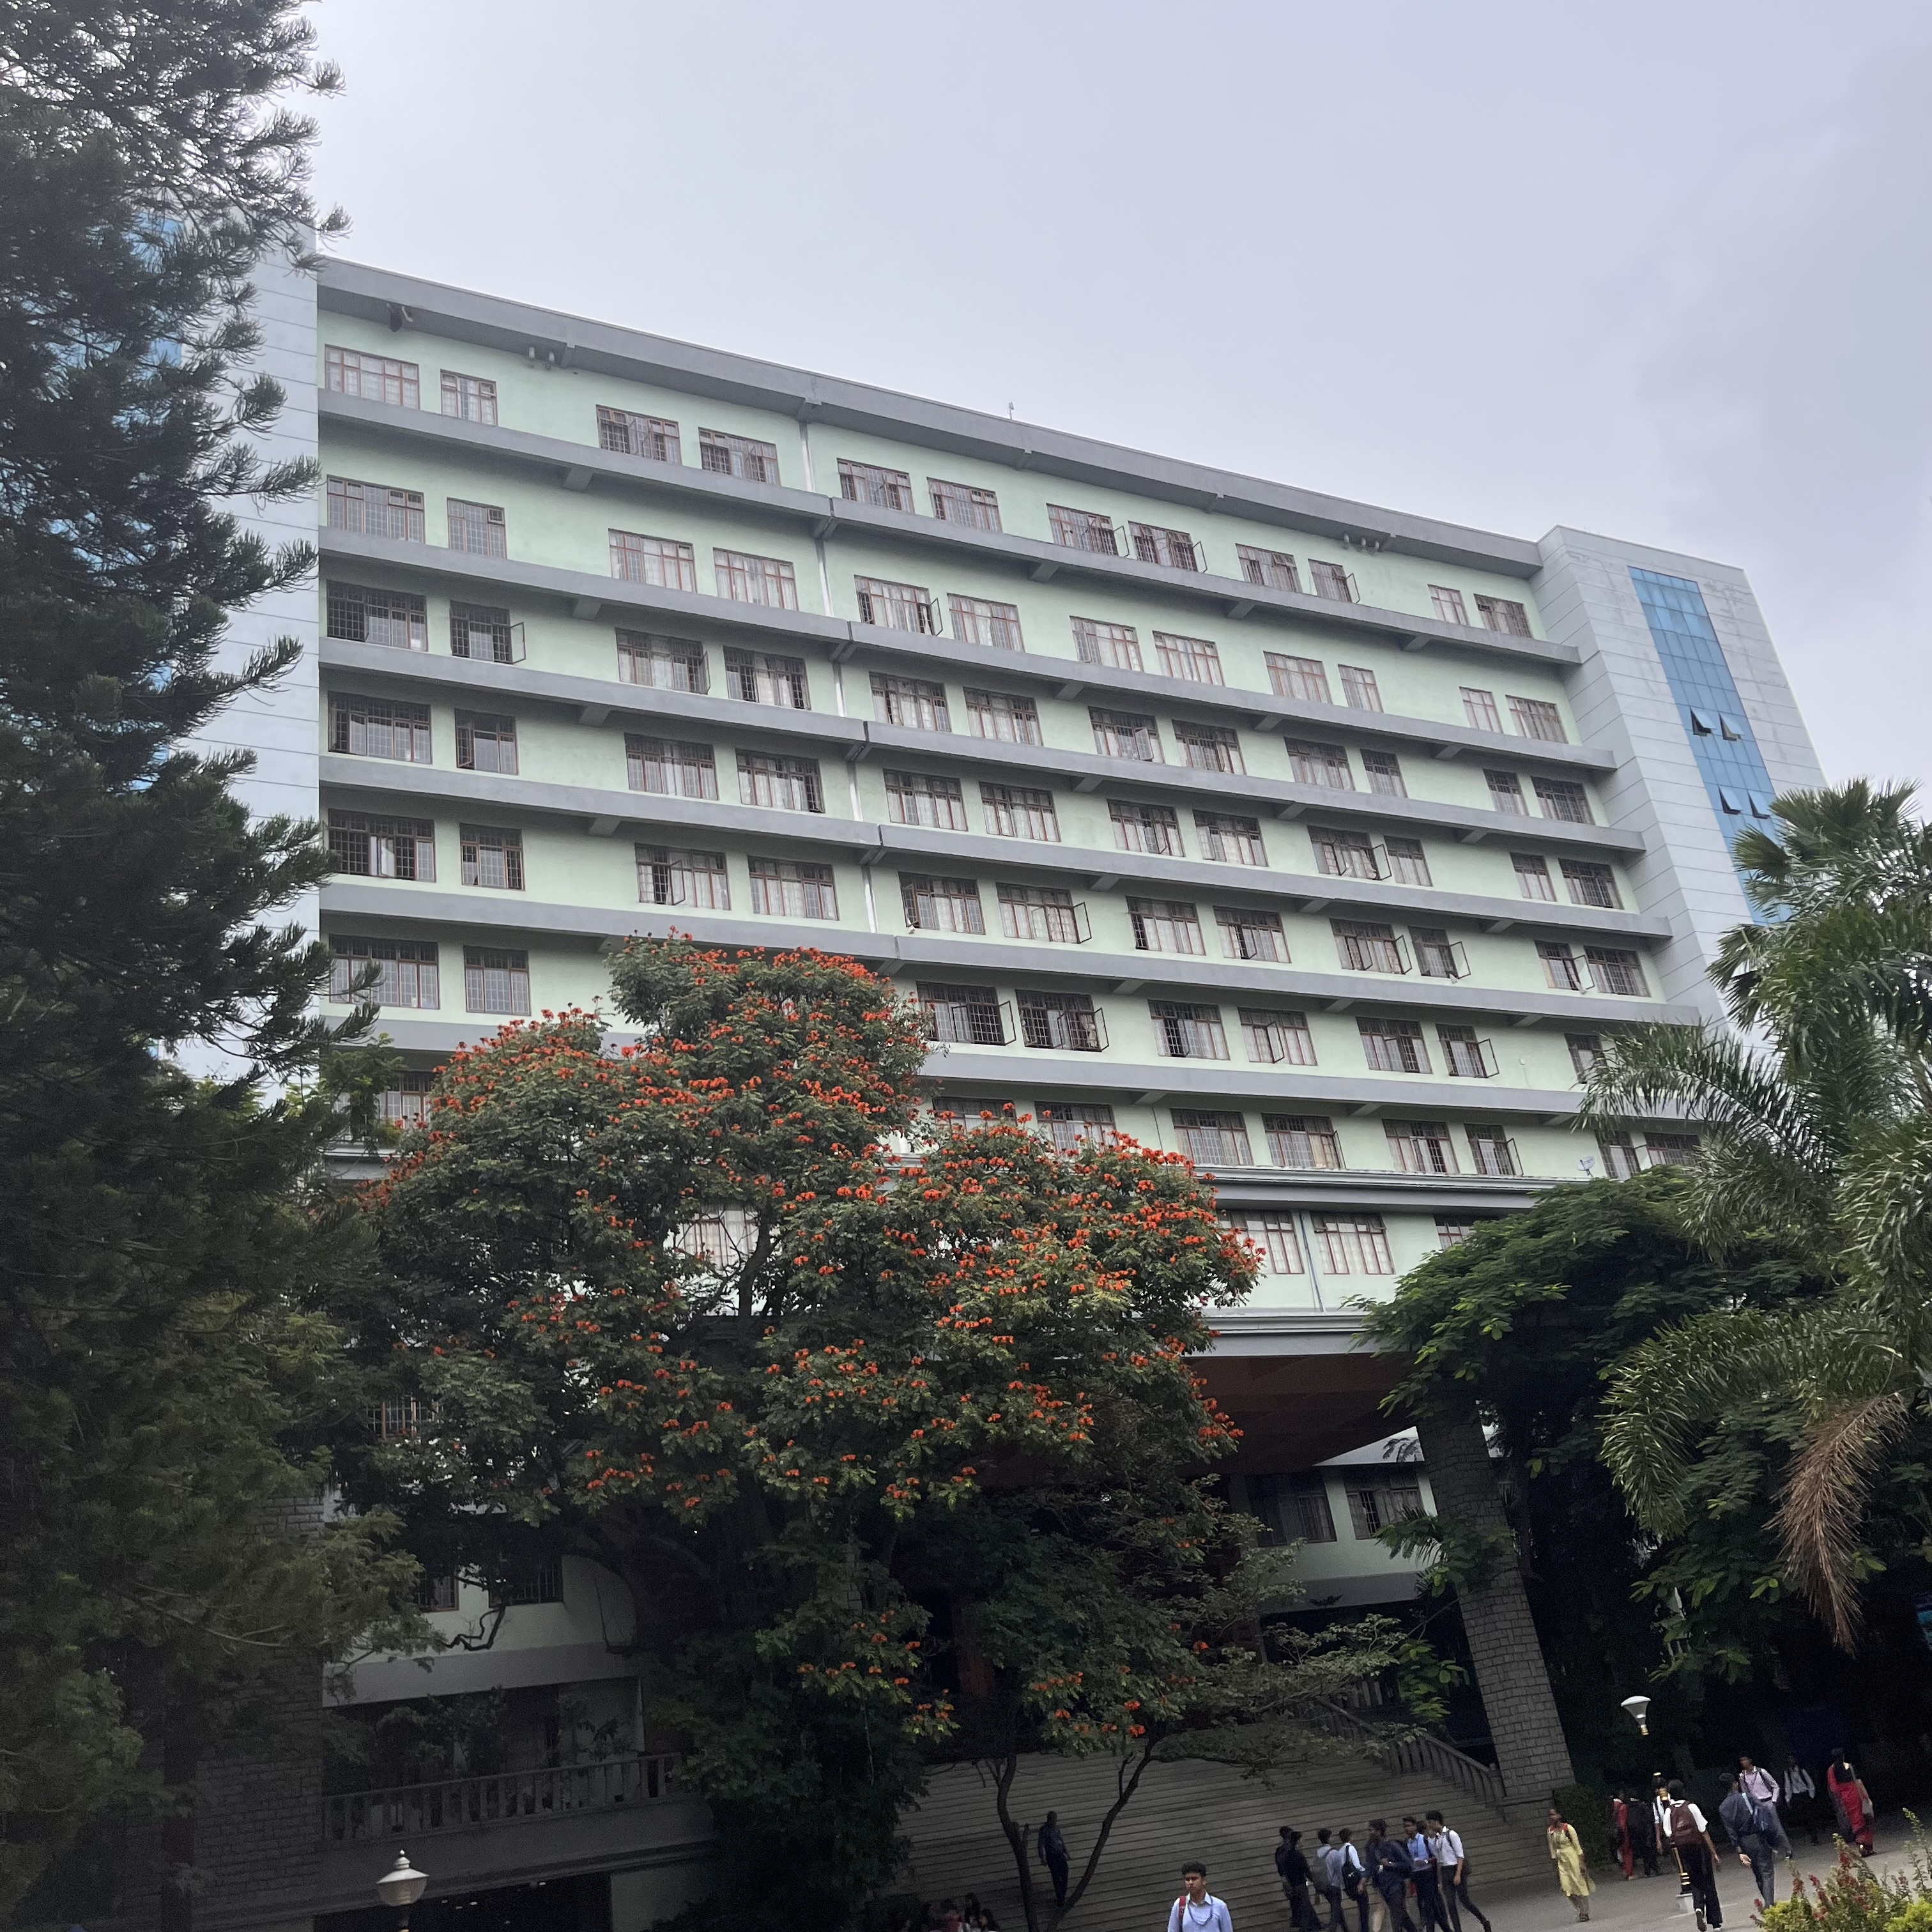Central Block: (248, 193, 1911, 1932)
